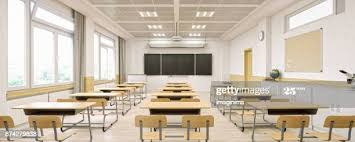desk: (10, 97, 96, 141), (139, 100, 212, 113), (69, 90, 118, 106)
